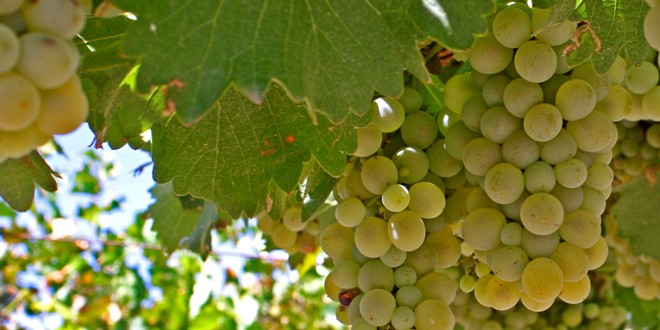Green grapes: (459, 22, 596, 305), (313, 104, 451, 329), (1, 1, 88, 166)
